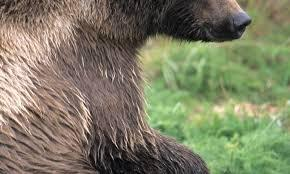bear: (1, 0, 252, 174)
